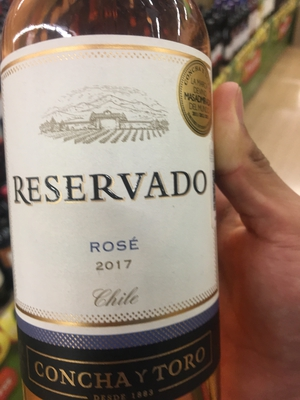reservado rose: (1, 3, 229, 400)
